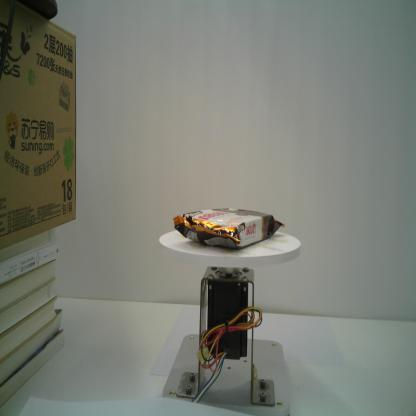Dessert: (174, 206, 287, 251)
